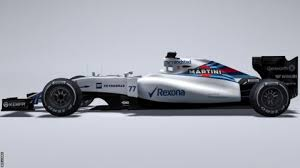f1_car: (1, 46, 300, 126)
